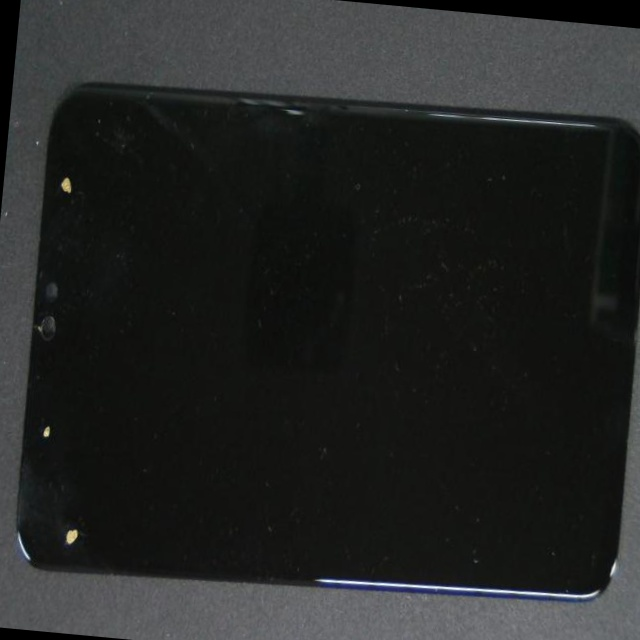stain: (29, 251, 161, 639), (0, 160, 94, 632), (51, 47, 111, 260)
